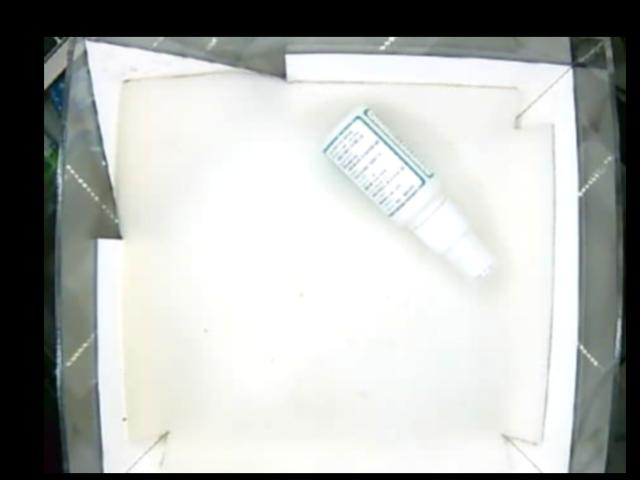Bottle: (321, 101, 501, 294)
